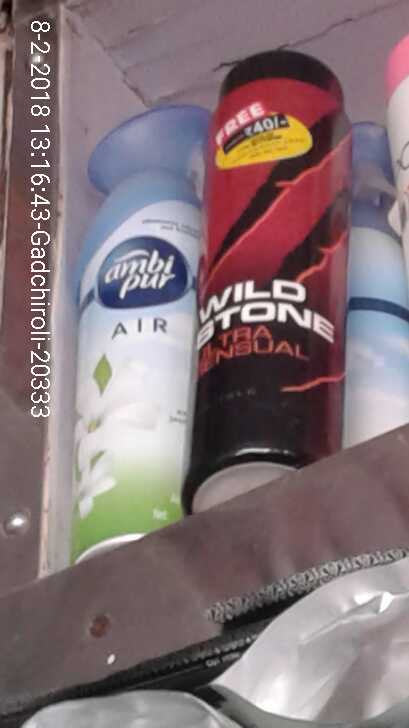ambipure: (63, 95, 187, 568)
